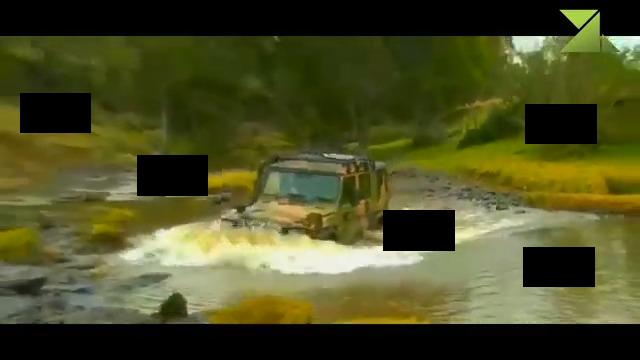MIL_HMMWV: (221, 151, 393, 245)
